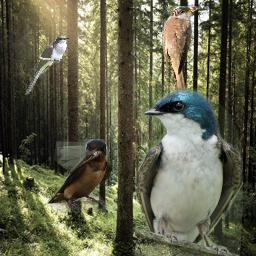Cuckoo: (162, 6, 199, 107), (25, 35, 69, 95)
Swallow: (135, 88, 243, 256), (47, 139, 112, 213)
